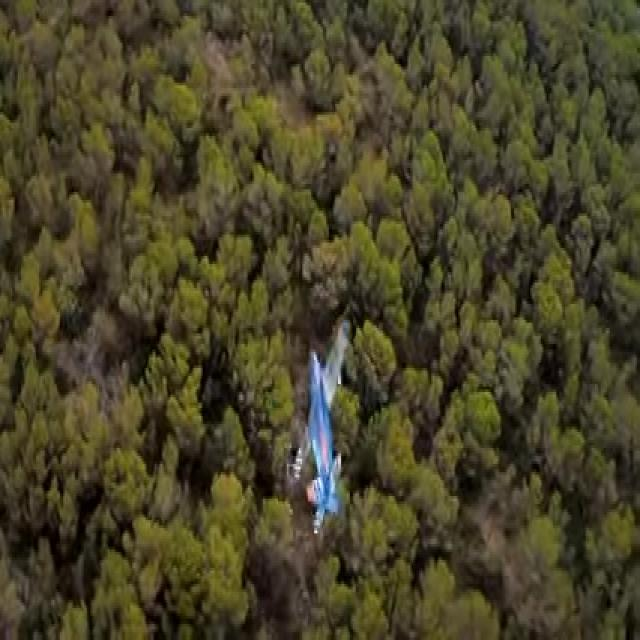iha: (292, 321, 351, 533)
